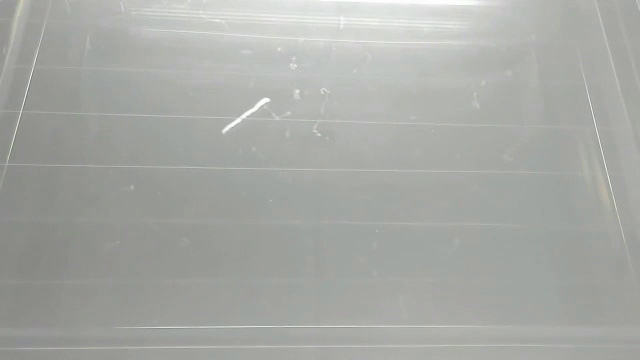alpha: (219, 96, 274, 136)
